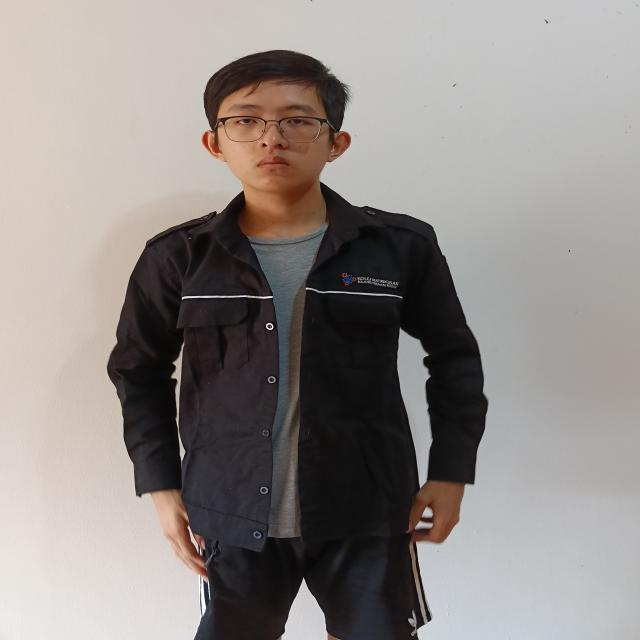person_with_labcoat: (108, 51, 487, 640)
